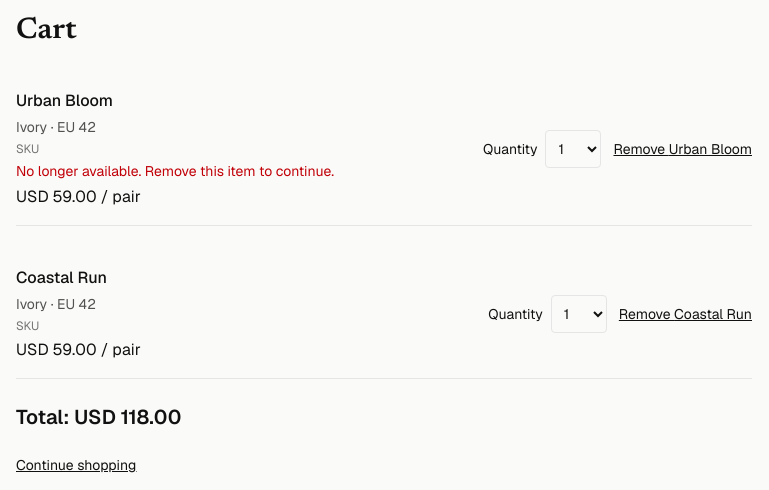
Test: blocks checkout for an unavailable line and restores checkout after removing it
Expected: the text "No longer available. Remove this item to continue." is shown, [16, 161, 334, 181]
Expected: the dropdown named "Urban Bloom quantity" is disabled, [546, 130, 602, 168]
What coordinates should you click on to do the following:
click the button "Remove Urban Bloom"
I would click on:
 (683, 149)
Its box is [614, 139, 752, 159].
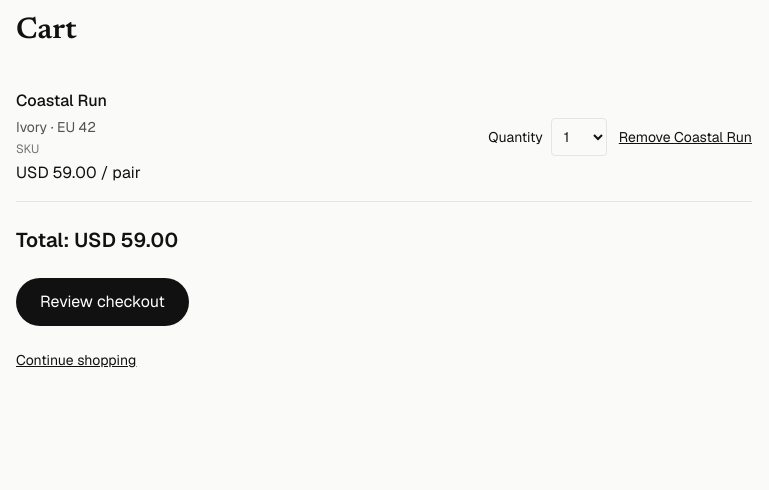
Expected: the heading "Coastal Run" is shown, [16, 90, 107, 111]
Expected: the heading "Urban Bloom" is gone
Expected: the text "Total: USD 59.00" is shown, [16, 227, 178, 253]
